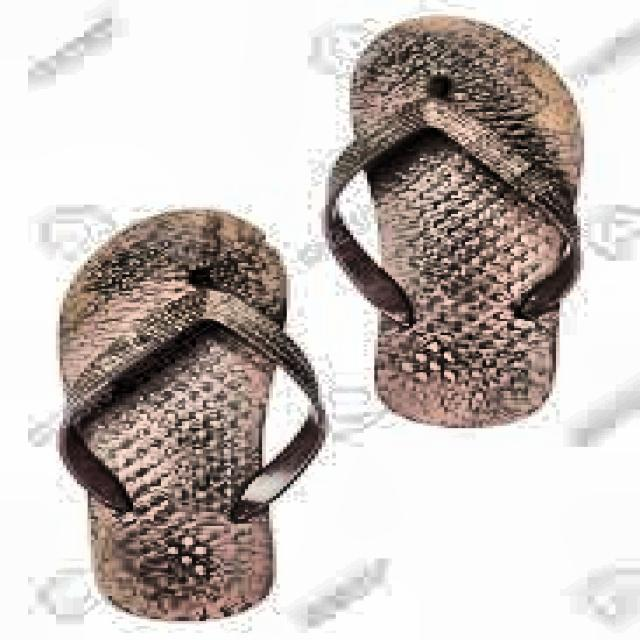shoes: (35, 9, 596, 617)
